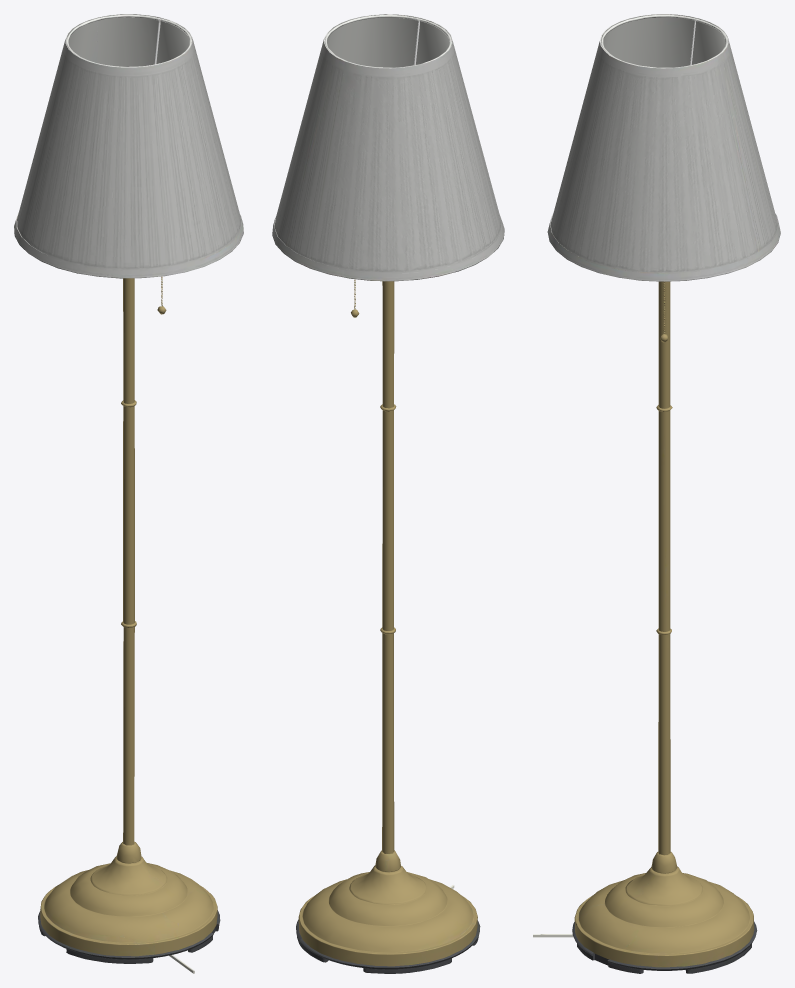
The picture shows the model from 3 angles, left to right: view 1: azimuth 30°, elevation 25°; view 2: azimuth 150°, elevation 25°; view 3: azimuth 270°, elevation 25°; orthographic projection.
Parts seen in each view (by area): view 1: 00321317; view 2: 00321317; view 3: 00321317.
Part boxes in pixels (x1,y1,x2,y2): 00321317: (14, 14, 243, 973); 00321317: (272, 14, 504, 973); 00321317: (533, 14, 780, 973).
Bounding box in the file's own units: 0.3646 × 1.55 × 0.3873.
Materials: 1 (1 with a texture image).
